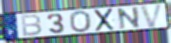3: (46, 13, 67, 34)
B: (20, 14, 43, 38)
N: (116, 6, 142, 31)
O: (69, 10, 93, 34)
V: (139, 3, 165, 29)
X: (93, 7, 116, 33)
